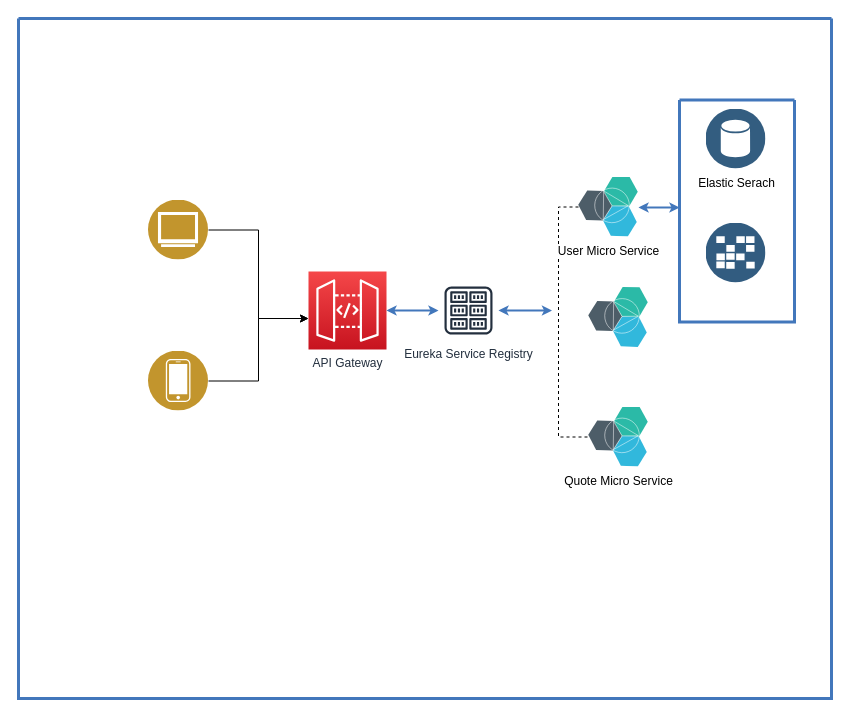
Image size: 850x717. Some labels were removed from this diagram. The centre of each missing label's shape, as x and y in pixels:
Account Micro Service: point 618,317
Redis Cache: point 736,252
